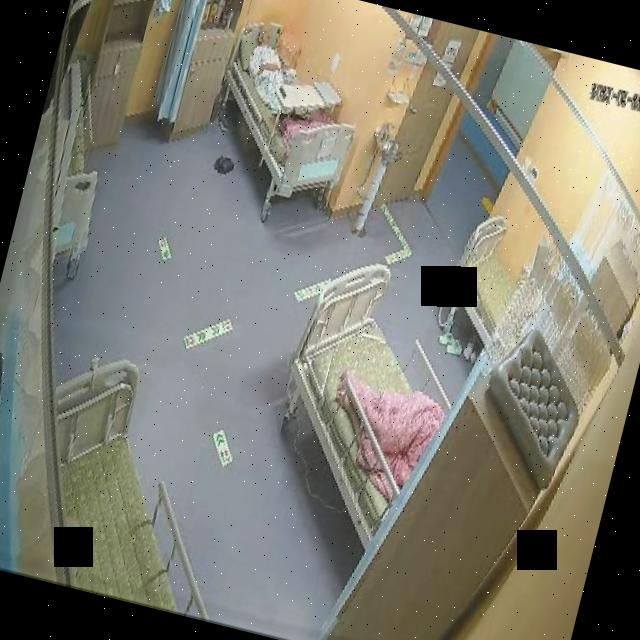bed: (8, 348, 262, 622), (252, 250, 470, 556), (196, 13, 377, 211), (438, 208, 531, 350)
lie: (238, 19, 300, 110)
patient: (237, 20, 297, 111)
